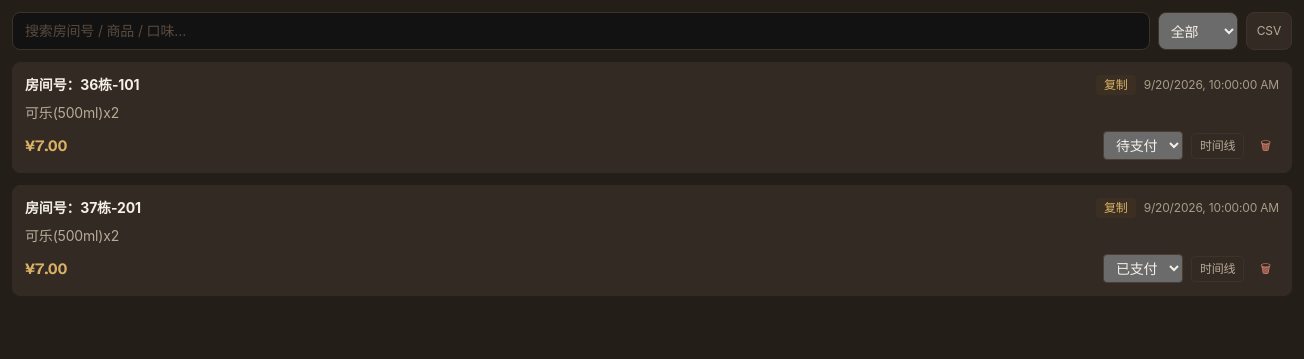
Test case: 状态流转 › 合法迁移成功 → 内联 notice + 重拉列表回传父级
Select "已支付" in the dropdown named "订单 36栋-101 的状态": (1143, 146) x1=1103 y1=131 x2=1183 y2=160
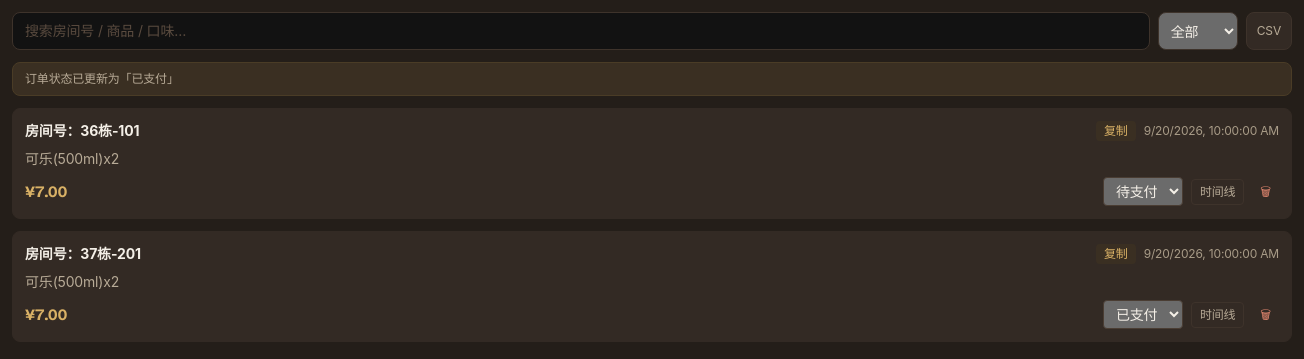
Expected: the message reads "订单状态已更新为「已支付」", x1=25 y1=71 x2=179 y2=86
